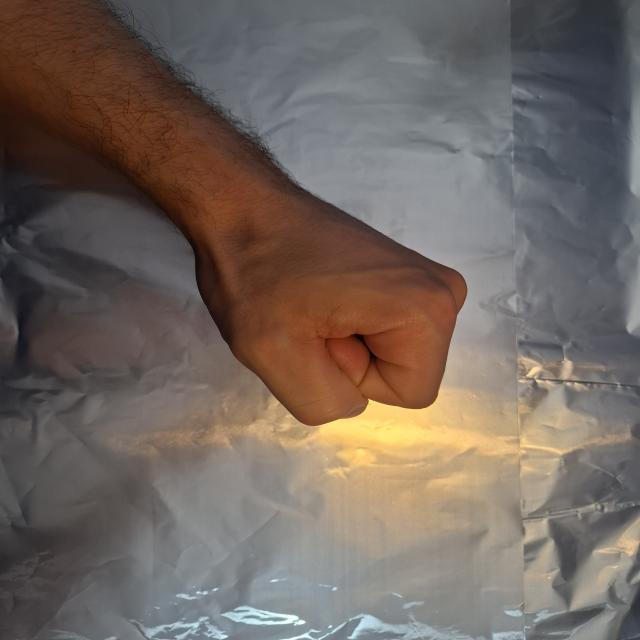glove_off: (190, 188, 470, 426)
